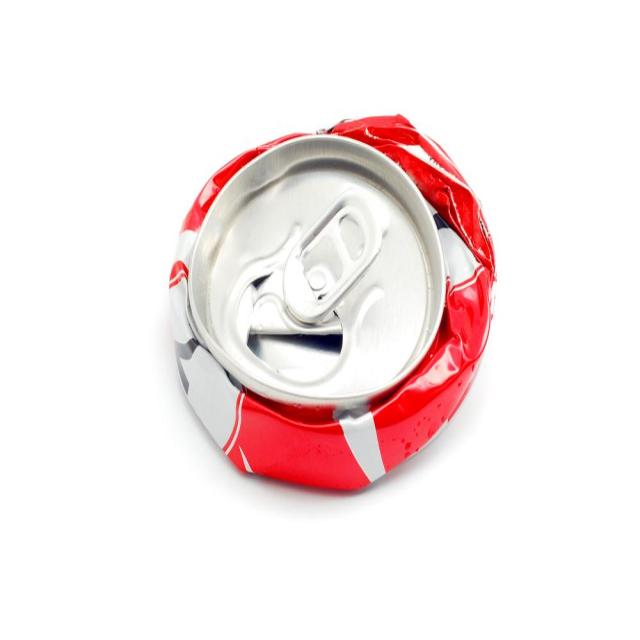can: (168, 112, 498, 498)
pop tab: (282, 189, 382, 325)
